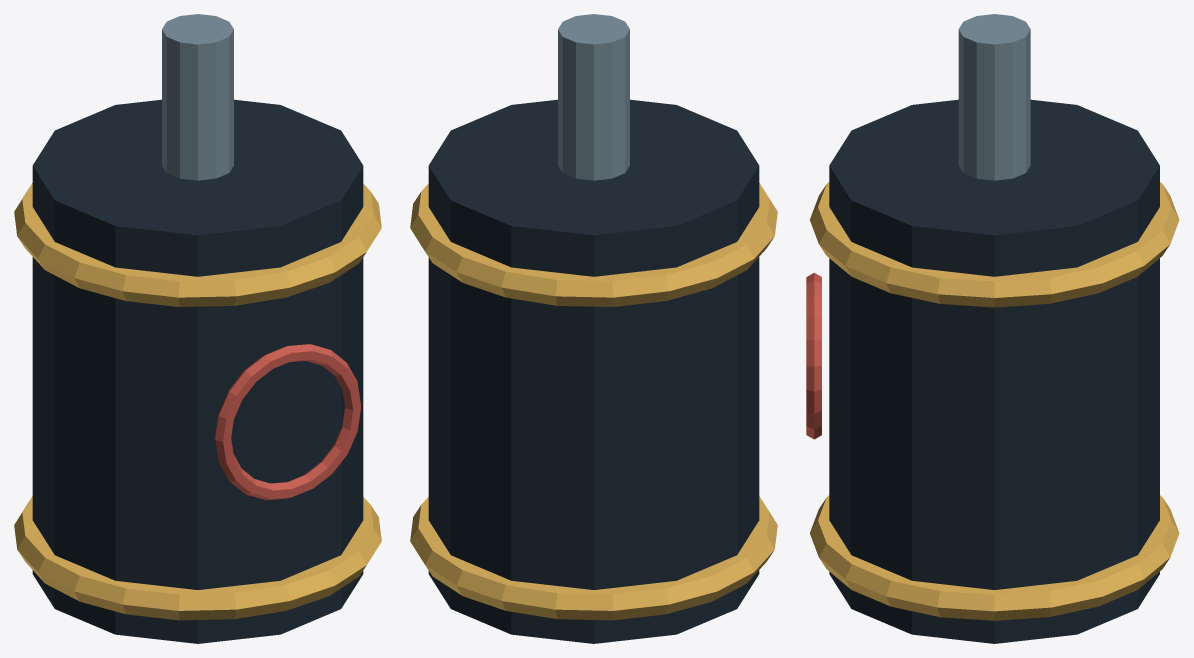
File: equipment-boiler.lod0.glb
3 renders of one model, left to right at view 1: azimuth 30°, elevation 25°; view 2: azimuth 150°, elevation 25°; view 3: azimuth 270°, elevation 25°, orthographic.
Visible parts, largest first — view 1: equipment-boiler__body, equipment-boiler__valve; view 2: equipment-boiler__body; view 3: equipment-boiler__body, equipment-boiler__valve.
Part boxes in pixels (left/top/right/bottom): equipment-boiler__body: left=14, top=14, right=381, bottom=643; equipment-boiler__valve: left=215, top=344, right=360, bottom=500; equipment-boiler__body: left=410, top=14, right=777, bottom=643; equipment-boiler__body: left=810, top=14, right=1179, bottom=643; equipment-boiler__valve: left=806, top=272, right=821, bottom=439.
Size of the model in its own units: 1.23 by 2 by 1.24.
